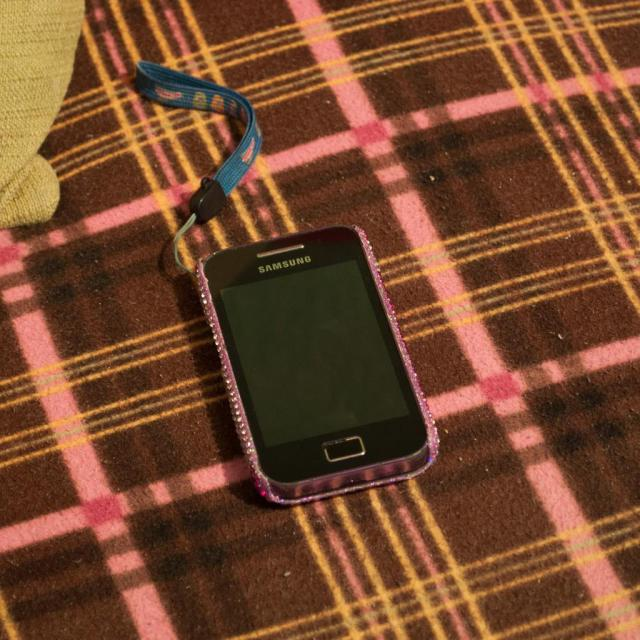Phone: (192, 218, 443, 506)
